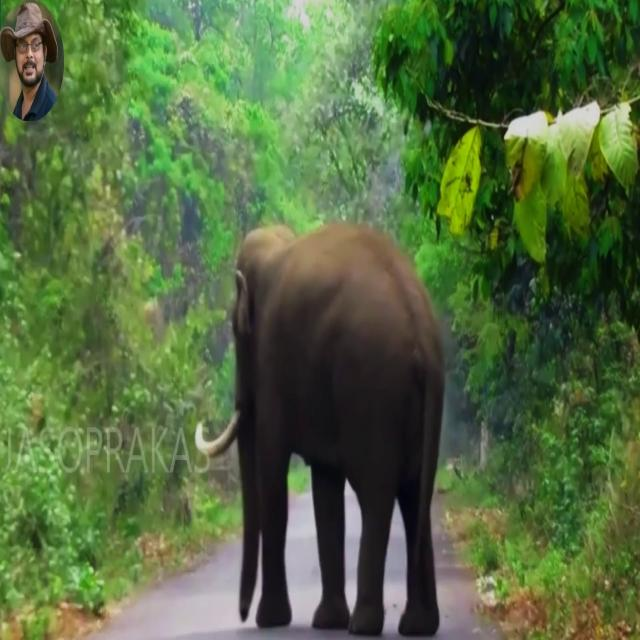Elephant: (194, 218, 446, 637)
